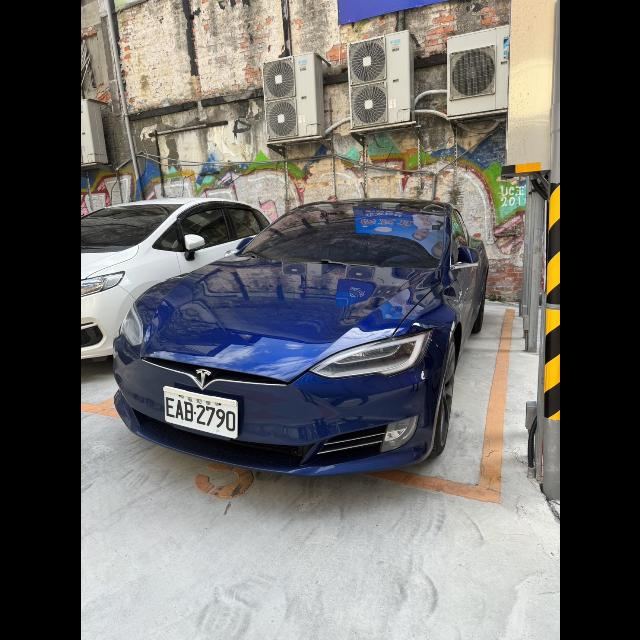plate: (162, 386, 237, 438)
